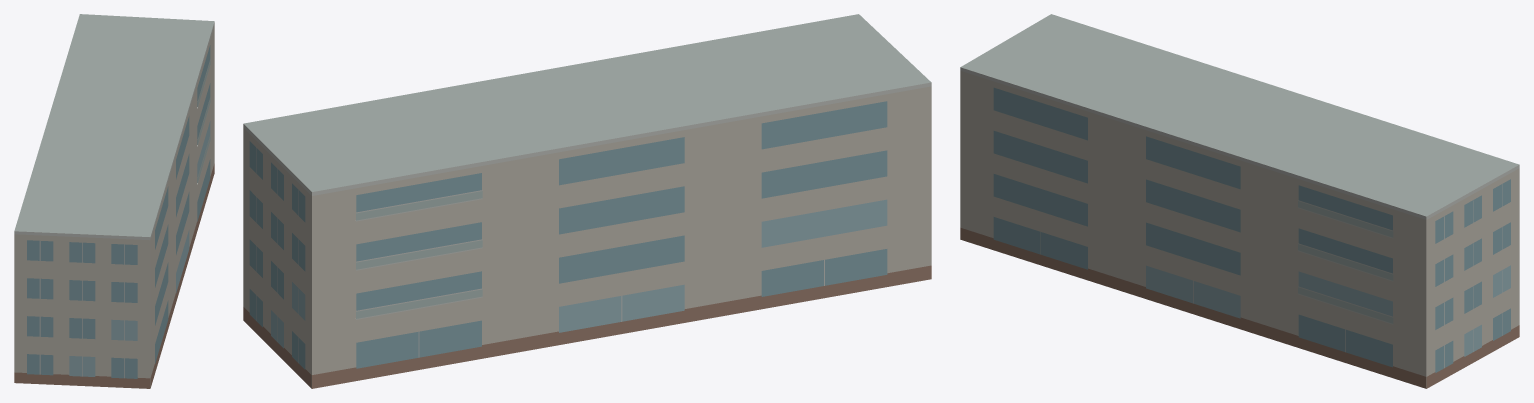
File: survey-upis-32997042.glb
3 views of the same model, side by side, from view 1: azimuth 30°, elevation 25°; view 2: azimuth 150°, elevation 25°; view 3: azimuth 270°, elevation 25° (orthographic). The views are drawn at different scales.
Visible parts, largest first — view 1: survey-upis-32997042.tmp; view 2: survey-upis-32997042.tmp; view 3: survey-upis-32997042.tmp.
Part boxes in pixels (<box>): survey-upis-32997042.tmp: <box>14,14,214,388</box>; survey-upis-32997042.tmp: <box>243,14,931,388</box>; survey-upis-32997042.tmp: <box>960,14,1519,388</box>.
Size of the model in its own units: 30.76 by 12.2 by 35.9.
